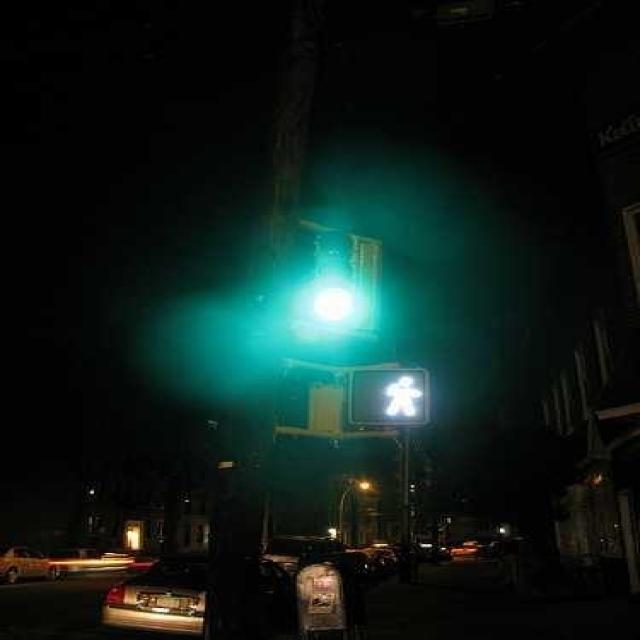Traffic Light -Green-: (306, 225, 386, 338)
